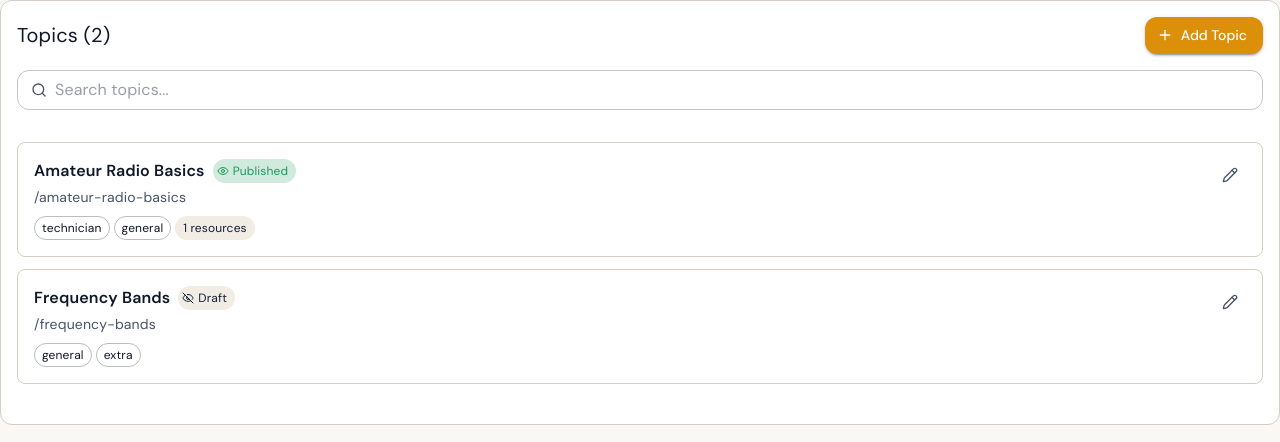
Scenario: AdminTopics › Search › should show "No topics found" when search has no results
The width and height of the screenshot is (1280, 442).
Expected: the heading "Amateur Radio Basics" is shown, [34,158,205,182]
Type "nonexistent" into the field with placeholder "Search topics..." at (659, 90), box [55,70,1263,110]
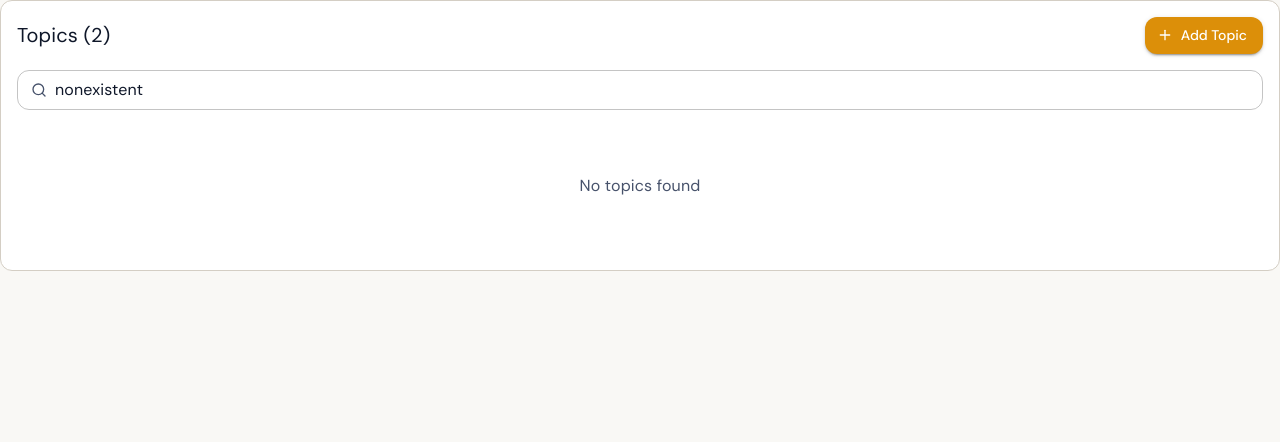
Result: the text "No topics found" is shown at [580,174,700,196]
